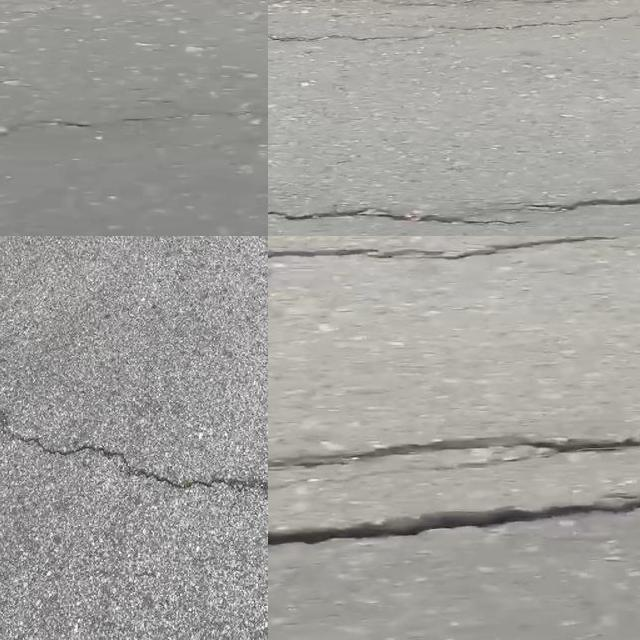Melintang: (0, 396, 268, 520), (268, 484, 640, 558), (268, 421, 640, 487), (268, 182, 640, 236), (268, 236, 640, 274)
